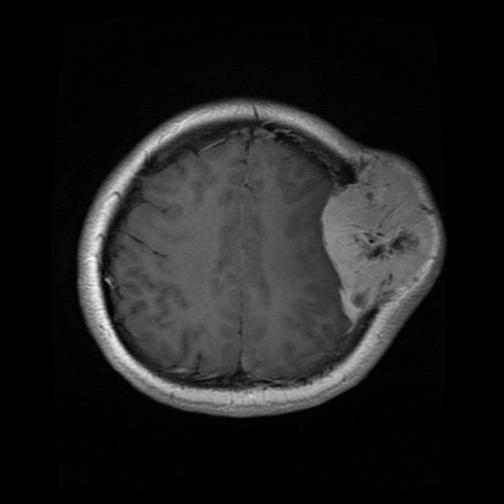Tumour-Meningioma: (311, 141, 454, 337)
